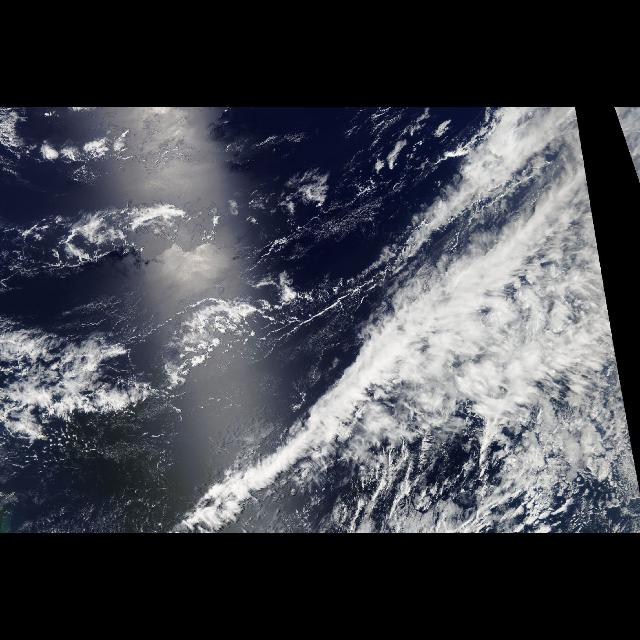Fish: (1, 314, 166, 464)
Sugar: (3, 406, 217, 526)
